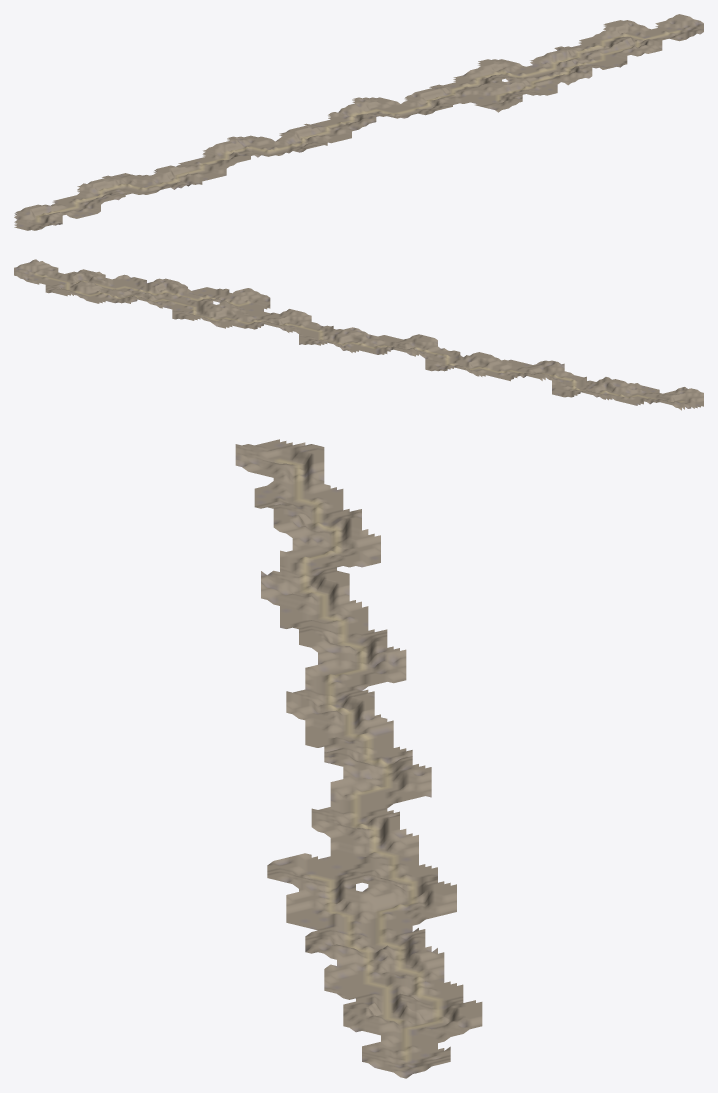
The model's file is terrain.glb.
The picture shows the model from 3 angles, top to bottom: view 1: azimuth 30°, elevation 25°; view 2: azimuth 150°, elevation 25°; view 3: azimuth 270°, elevation 25°; orthographic projection. The views are drawn at different scales.
Parts seen in each view (by area): view 1: NATURAL_3_-1, NATURAL_14_-2, NATURAL_13_-2, NATURAL_2_-1, NATURAL_15_-2, NATURAL_9_-2, NATURAL_12_-2, NATURAL_11_-1, NATURAL_4_-1, NATURAL_12_-1, NATURAL_11_-2, NATURAL_6_-1 (+15 smaller); view 2: NATURAL_15_-2, NATURAL_11_-1, NATURAL_12_-2, NATURAL_1_-1, NATURAL_16_-2, NATURAL_6_-1, NATURAL_13_-2, NATURAL_4_-1, NATURAL_3_-1, NATURAL_11_-2, NATURAL_5_-1, NATURAL_14_-2 (+16 smaller); view 3: NATURAL_14_-2, NATURAL_12_-2, NATURAL_9_-2, NATURAL_2_-1, NATURAL_15_-2, NATURAL_12_-1, NATURAL_4_-1, NATURAL_11_-2, NATURAL_3_-1, NATURAL_13_-2, NATURAL_16_-2, NATURAL_11_-1 (+15 smaller).
Boxes of the visible parts, x1,y1,x2,y2 form: NATURAL_3_-1: (122,166,204,189); NATURAL_14_-2: (544,47,622,66); NATURAL_13_-2: (498,55,574,77); NATURAL_2_-1: (80,179,159,196); NATURAL_15_-2: (583,37,662,58); NATURAL_9_-2: (342,97,413,116); NATURAL_12_-2: (457,64,539,84); NATURAL_11_-1: (457,84,525,107); NATURAL_4_-1: (168,160,236,180); NATURAL_12_-1: (498,77,560,95); NATURAL_11_-2: (429,78,497,97); NATURAL_6_-1: (248,136,323,155); NATURAL_15_-2: (74,271,111,299); NATURAL_11_-1: (226,288,263,316); NATURAL_12_-2: (188,298,225,326); NATURAL_1_-1: (606,378,643,405); NATURAL_16_-2: (36,259,73,290); NATURAL_6_-1: (416,334,453,363); NATURAL_13_-2: (150,287,187,314); NATURAL_4_-1: (492,355,529,377); NATURAL_3_-1: (530,364,567,390); NATURAL_11_-2: (226,304,263,329); NATURAL_5_-1: (454,350,491,373); NATURAL_14_-2: (112,281,149,303); NATURAL_14_-2: (356,936,431,998); NATURAL_12_-2: (356,868,431,922); NATURAL_9_-2: (356,756,431,812); NATURAL_2_-1: (280,510,355,570); NATURAL_15_-2: (356,980,431,1032); NATURAL_12_-1: (286,878,355,930); NATURAL_4_-1: (280,583,355,633); NATURAL_11_-2: (356,829,431,879); NATURAL_3_-1: (280,550,355,608); NATURAL_13_-2: (356,900,431,957); NATURAL_16_-2: (362,1015,431,1063); NATURAL_11_-1: (280,847,355,899).
Bounding box in the file's own units: 389 × 2.9 × 63.18.
